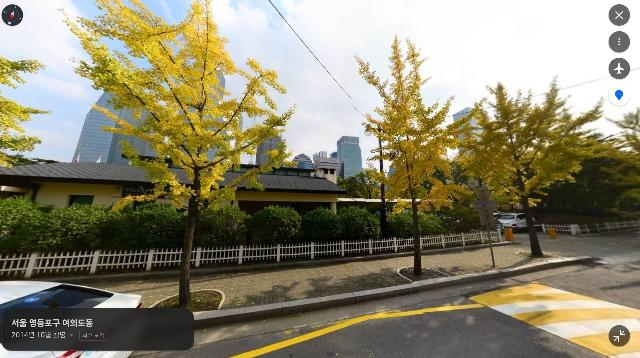ginkgo: (57, 0, 300, 308), (446, 74, 612, 258), (354, 33, 475, 277), (0, 45, 52, 158)
